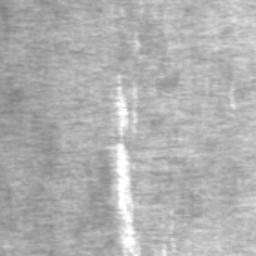White rust: (106, 143, 143, 256), (115, 75, 138, 134), (131, 87, 139, 99)
